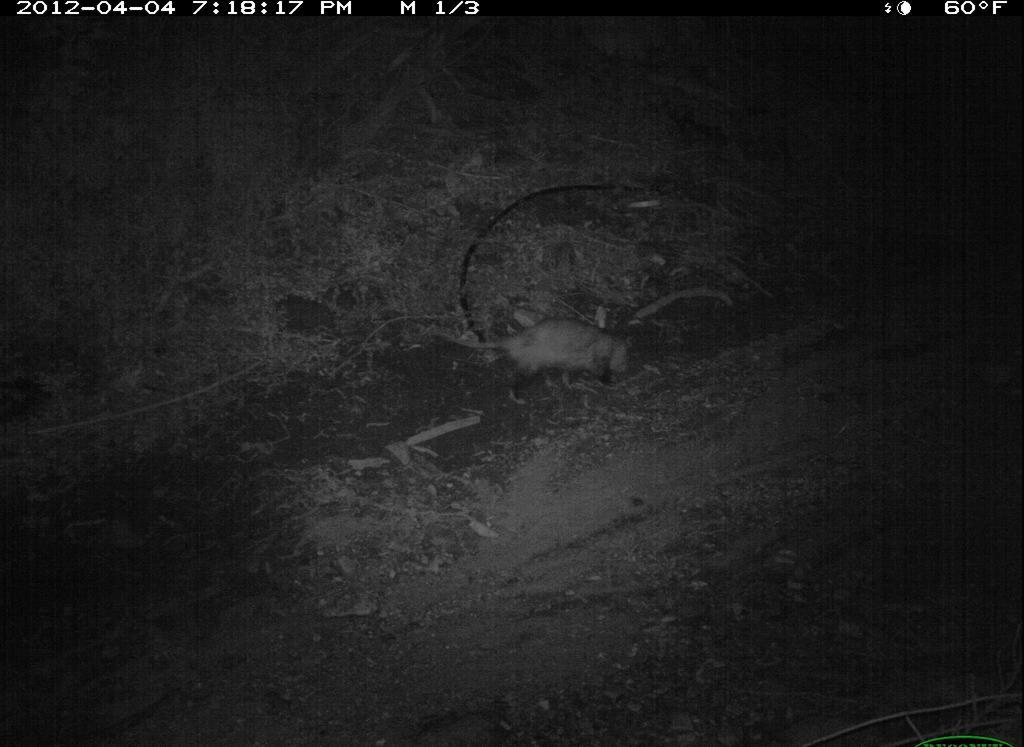opossum: (482, 313, 653, 395)
